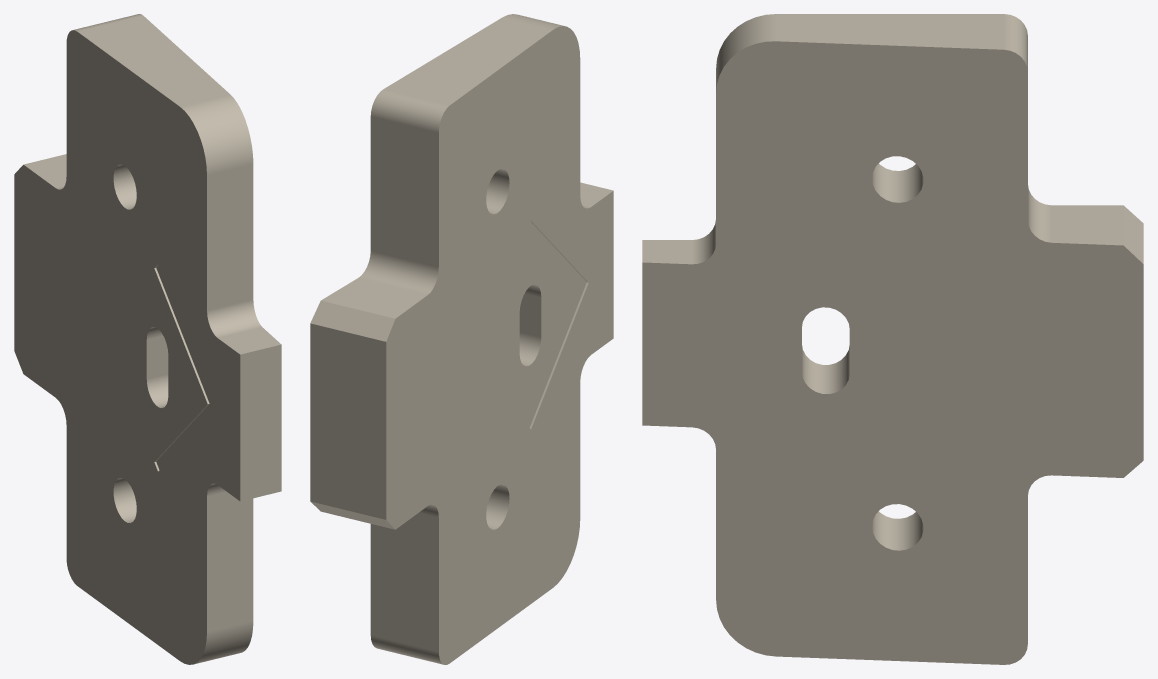
3 renders of one model, left to right at view 1: azimuth 30°, elevation 25°; view 2: azimuth 150°, elevation 25°; view 3: azimuth 270°, elevation 25°, orthographic. The views are drawn at different scales.
Visible parts, largest first — view 1: bau0006168209; view 2: bau0006168209; view 3: bau0006168209.
Part boxes in pixels (x1,y1,x2,y2): bau0006168209: (14, 14, 281, 664); bau0006168209: (310, 14, 613, 664); bau0006168209: (642, 14, 1143, 664).
Size of the model in its own units: 8.07 by 56.6 by 41.8.
